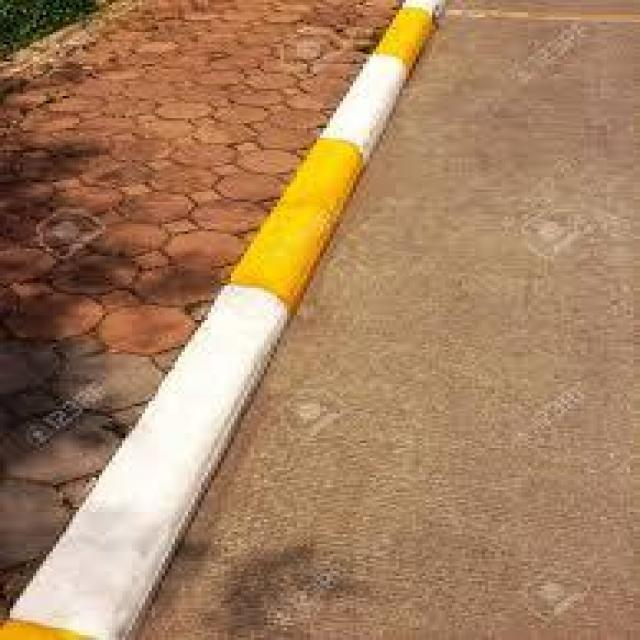bump: (44, 251, 285, 640), (259, 93, 366, 307)
